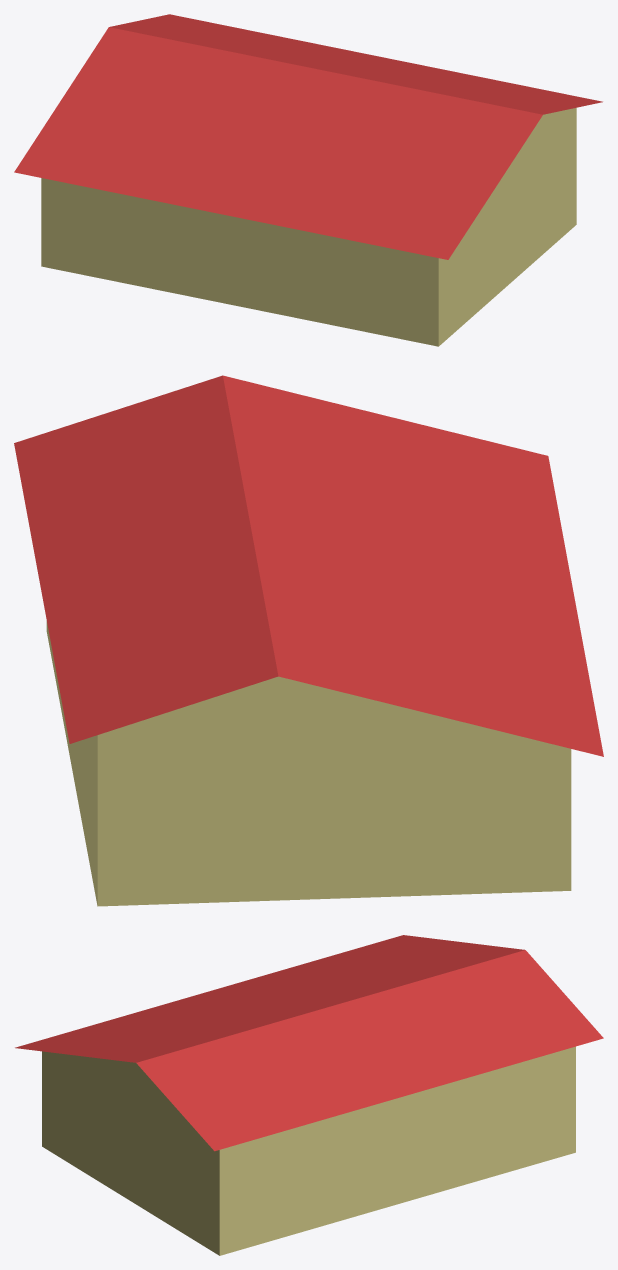
3 renders of one model, top to bottom at view 1: azimuth 30°, elevation 25°; view 2: azimuth 150°, elevation 25°; view 3: azimuth 270°, elevation 25°, orthographic. The views are drawn at different scales.
Size of the model in its own units: 41.85 by 44.13 by 12.93.
